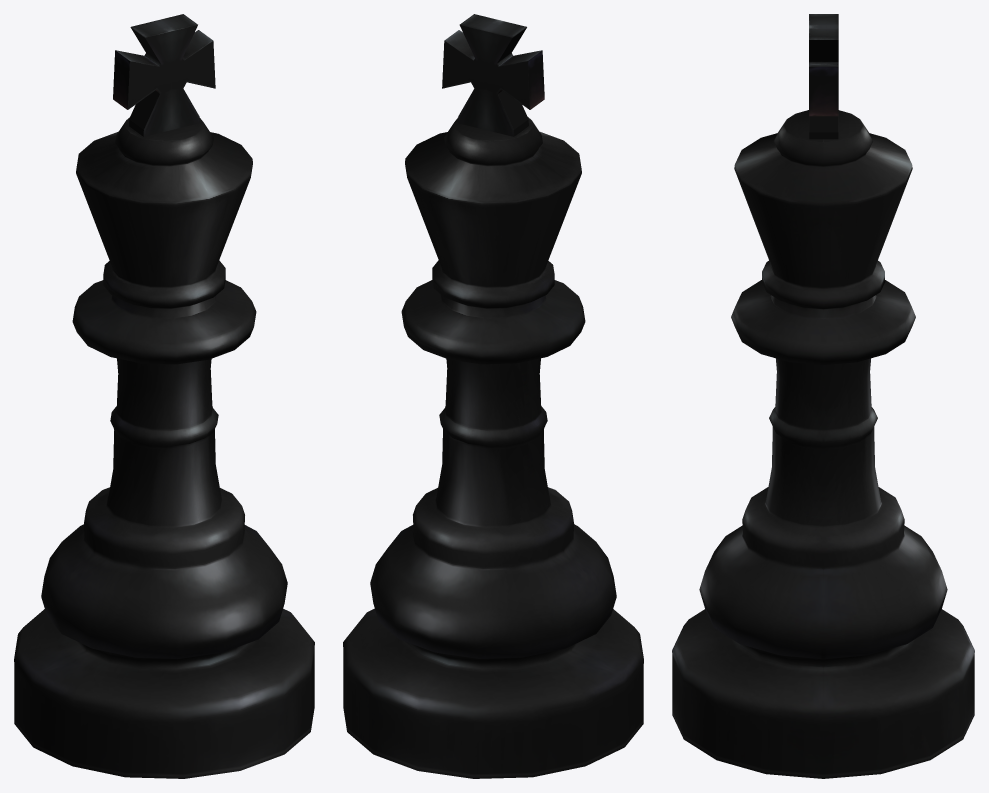
3 renders of one model, left to right at view 1: azimuth 30°, elevation 25°; view 2: azimuth 150°, elevation 25°; view 3: azimuth 270°, elevation 25°, orthographic.
Visible parts, largest first — view 1: model; view 2: model; view 3: model.
Part boxes in pixels (x1=…): model: x1=14, y1=14, x2=314, y2=778; model: x1=343, y1=14, x2=643, y2=778; model: x1=672, y1=14, x2=974, y2=778.
Size of the model in its own units: 94.63 by 94.63 by 237.
